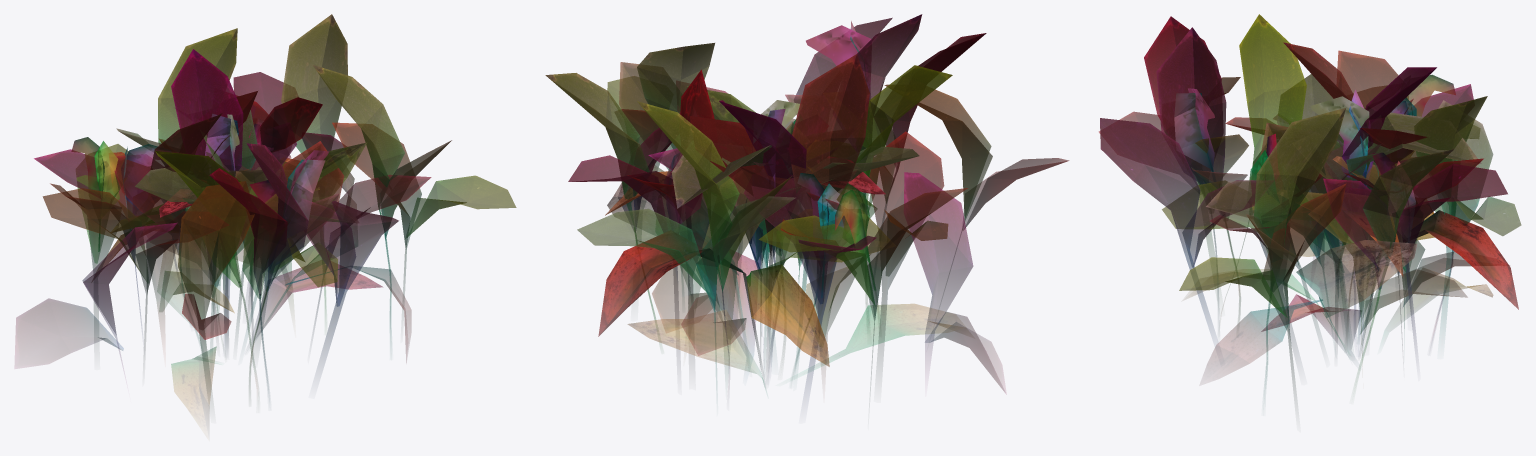
Rendered from xikkdhjja_tier_3.gltf.
3 views of the same model, side by side, from view 1: azimuth 30°, elevation 25°; view 2: azimuth 150°, elevation 25°; view 3: azimuth 270°, elevation 25° (orthographic). The views are drawn at different scales.
Visible parts, largest first — view 1: SM_xikkdhjja_VarC, SM_xikkdhjja_VarD, SM_xikkdhjja_VarB, SM_xikkdhjja_VarG, SM_xikkdhjja_VarE, SM_xikkdhjja_VarA, SM_xikkdhjja_VarH, SM_xikkdhjja_VarF; view 2: SM_xikkdhjja_VarC, SM_xikkdhjja_VarD, SM_xikkdhjja_VarB, SM_xikkdhjja_VarG, SM_xikkdhjja_VarE, SM_xikkdhjja_VarH, SM_xikkdhjja_VarF, SM_xikkdhjja_VarA; view 3: SM_xikkdhjja_VarC, SM_xikkdhjja_VarD, SM_xikkdhjja_VarE, SM_xikkdhjja_VarB, SM_xikkdhjja_VarG, SM_xikkdhjja_VarF, SM_xikkdhjja_VarH, SM_xikkdhjja_VarA.
Part boxes in pixels (bbox=[...]): SM_xikkdhjja_VarC: bbox=[15, 28, 451, 391]; SM_xikkdhjja_VarD: bbox=[43, 14, 516, 392]; SM_xikkdhjja_VarB: bbox=[34, 96, 343, 340]; SM_xikkdhjja_VarG: bbox=[97, 220, 382, 422]; SM_xikkdhjja_VarE: bbox=[111, 91, 411, 362]; SM_xikkdhjja_VarA: bbox=[173, 113, 296, 318]; SM_xikkdhjja_VarH: bbox=[157, 157, 299, 338]; SM_xikkdhjja_VarF: bbox=[173, 107, 257, 184]; SM_xikkdhjja_VarC: bbox=[568, 14, 1068, 392]; SM_xikkdhjja_VarD: bbox=[545, 17, 986, 377]; SM_xikkdhjja_VarB: bbox=[627, 69, 919, 388]; SM_xikkdhjja_VarG: bbox=[598, 230, 965, 369]; SM_xikkdhjja_VarE: bbox=[607, 86, 889, 361]; SM_xikkdhjja_VarH: bbox=[605, 156, 885, 388]; SM_xikkdhjja_VarF: bbox=[671, 141, 836, 351]; SM_xikkdhjja_VarA: bbox=[648, 100, 860, 269]; SM_xikkdhjja_VarC: bbox=[1099, 14, 1507, 388]; SM_xikkdhjja_VarD: bbox=[1100, 16, 1521, 395]; SM_xikkdhjja_VarE: bbox=[1202, 122, 1427, 380]; SM_xikkdhjja_VarB: bbox=[1162, 74, 1509, 345]; SM_xikkdhjja_VarG: bbox=[1184, 210, 1518, 355]; SM_xikkdhjja_VarF: bbox=[1332, 112, 1481, 309]; SM_xikkdhjja_VarH: bbox=[1311, 140, 1493, 328]; SM_xikkdhjja_VarA: bbox=[1310, 89, 1405, 325].
Size of what is drawn, in the model's own units: 0.6341 by 0.4267 by 0.524.
Materials: 1 (1 with a texture image).
